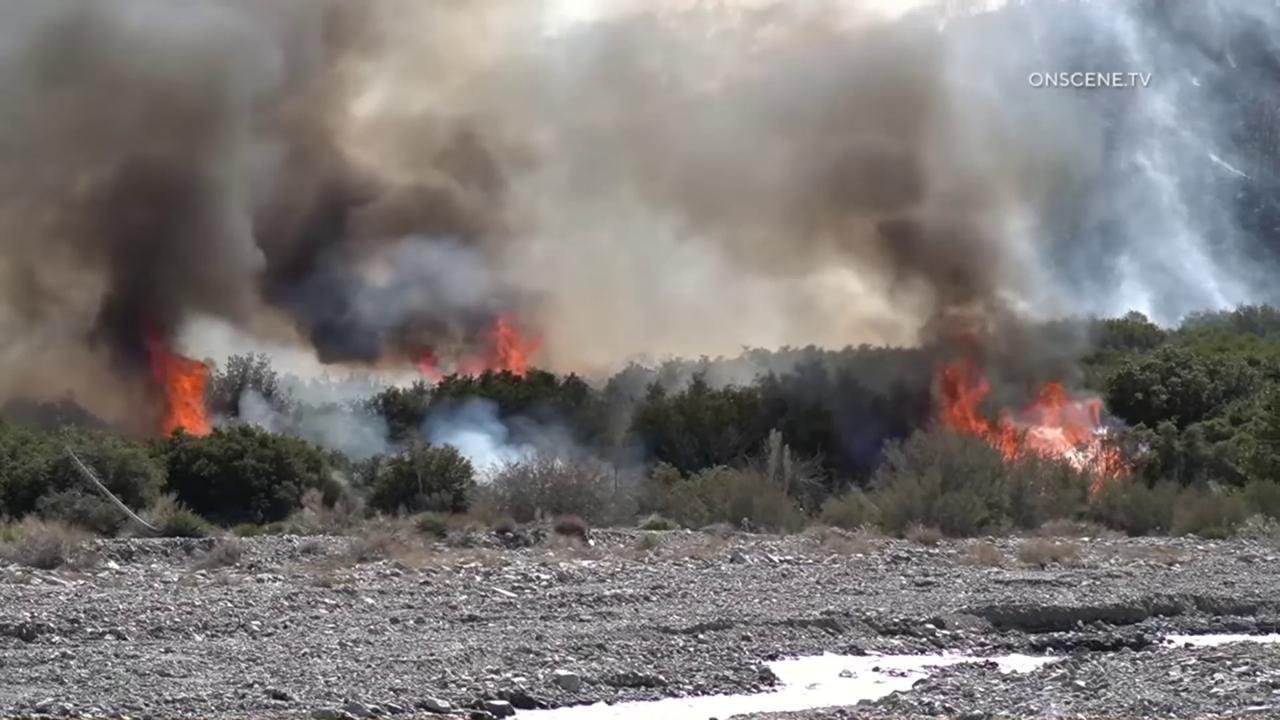fire: (938, 358, 1133, 505), (150, 341, 214, 440), (455, 312, 544, 380), (417, 351, 447, 383)
smoke: (0, 0, 1280, 487)
